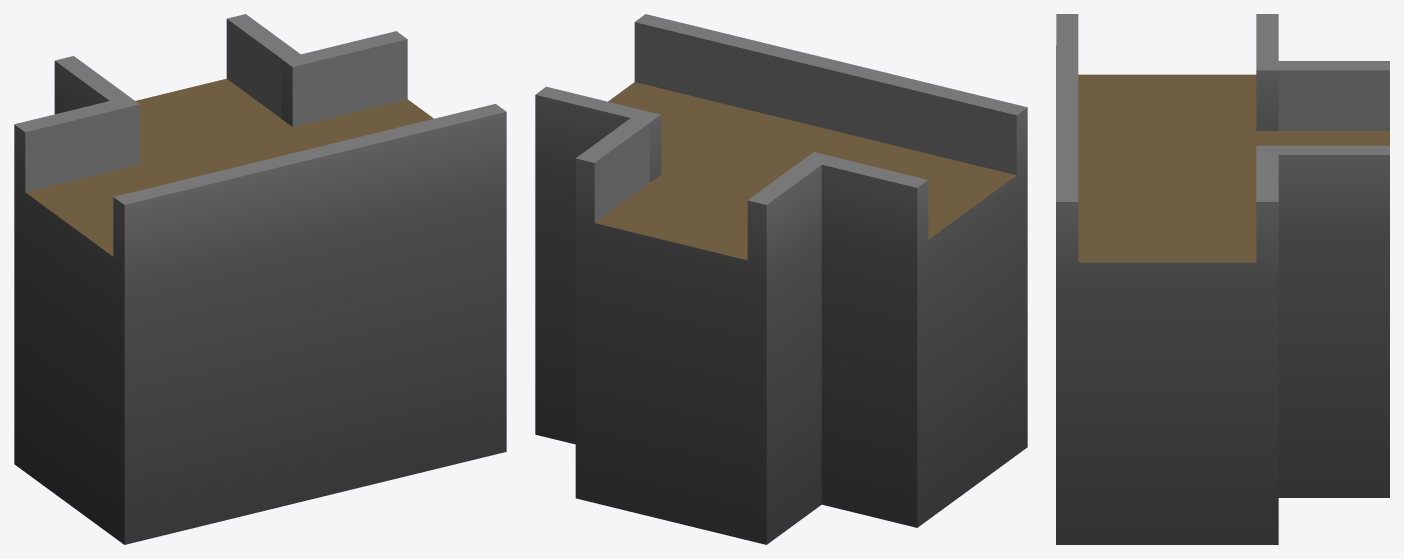
The model's file is junction1.FBX.
The picture shows the model from 3 angles, left to right: view 1: azimuth 30°, elevation 25°; view 2: azimuth 150°, elevation 25°; view 3: azimuth 270°, elevation 25°; orthographic projection.
Parts seen in each view (by area): view 1: Box012; view 2: Box012; view 3: Box012.
Part boxes in pixels (x1,y1,x2,y2): Box012: (14, 14, 506, 544); Box012: (535, 14, 1027, 544); Box012: (1056, 14, 1389, 544).
Size of the model in its own units: 100 by 85 by 75.03.
